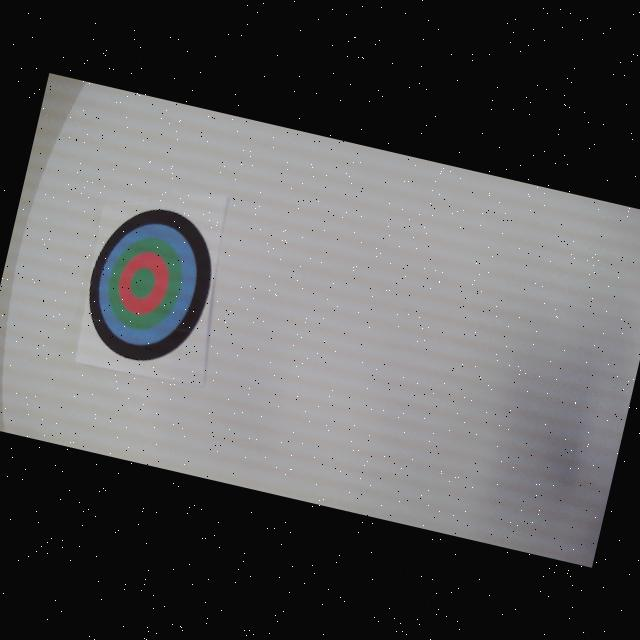COGNITIVE: (75, 196, 224, 374)
